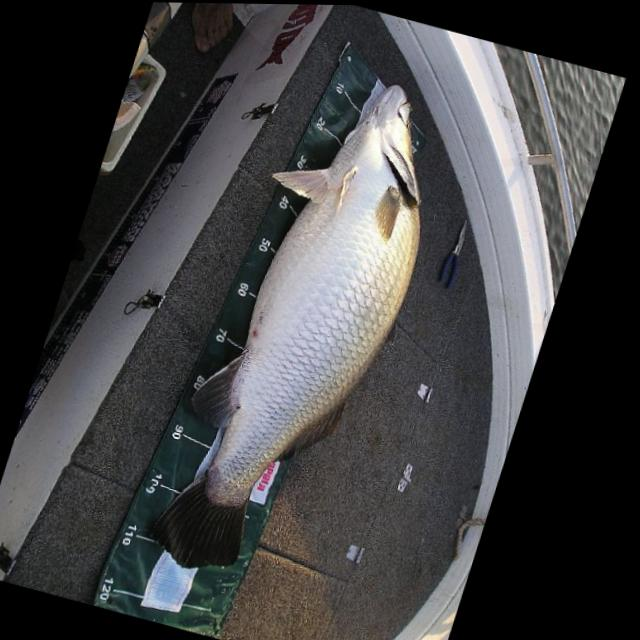Seabass: (137, 54, 474, 606)
